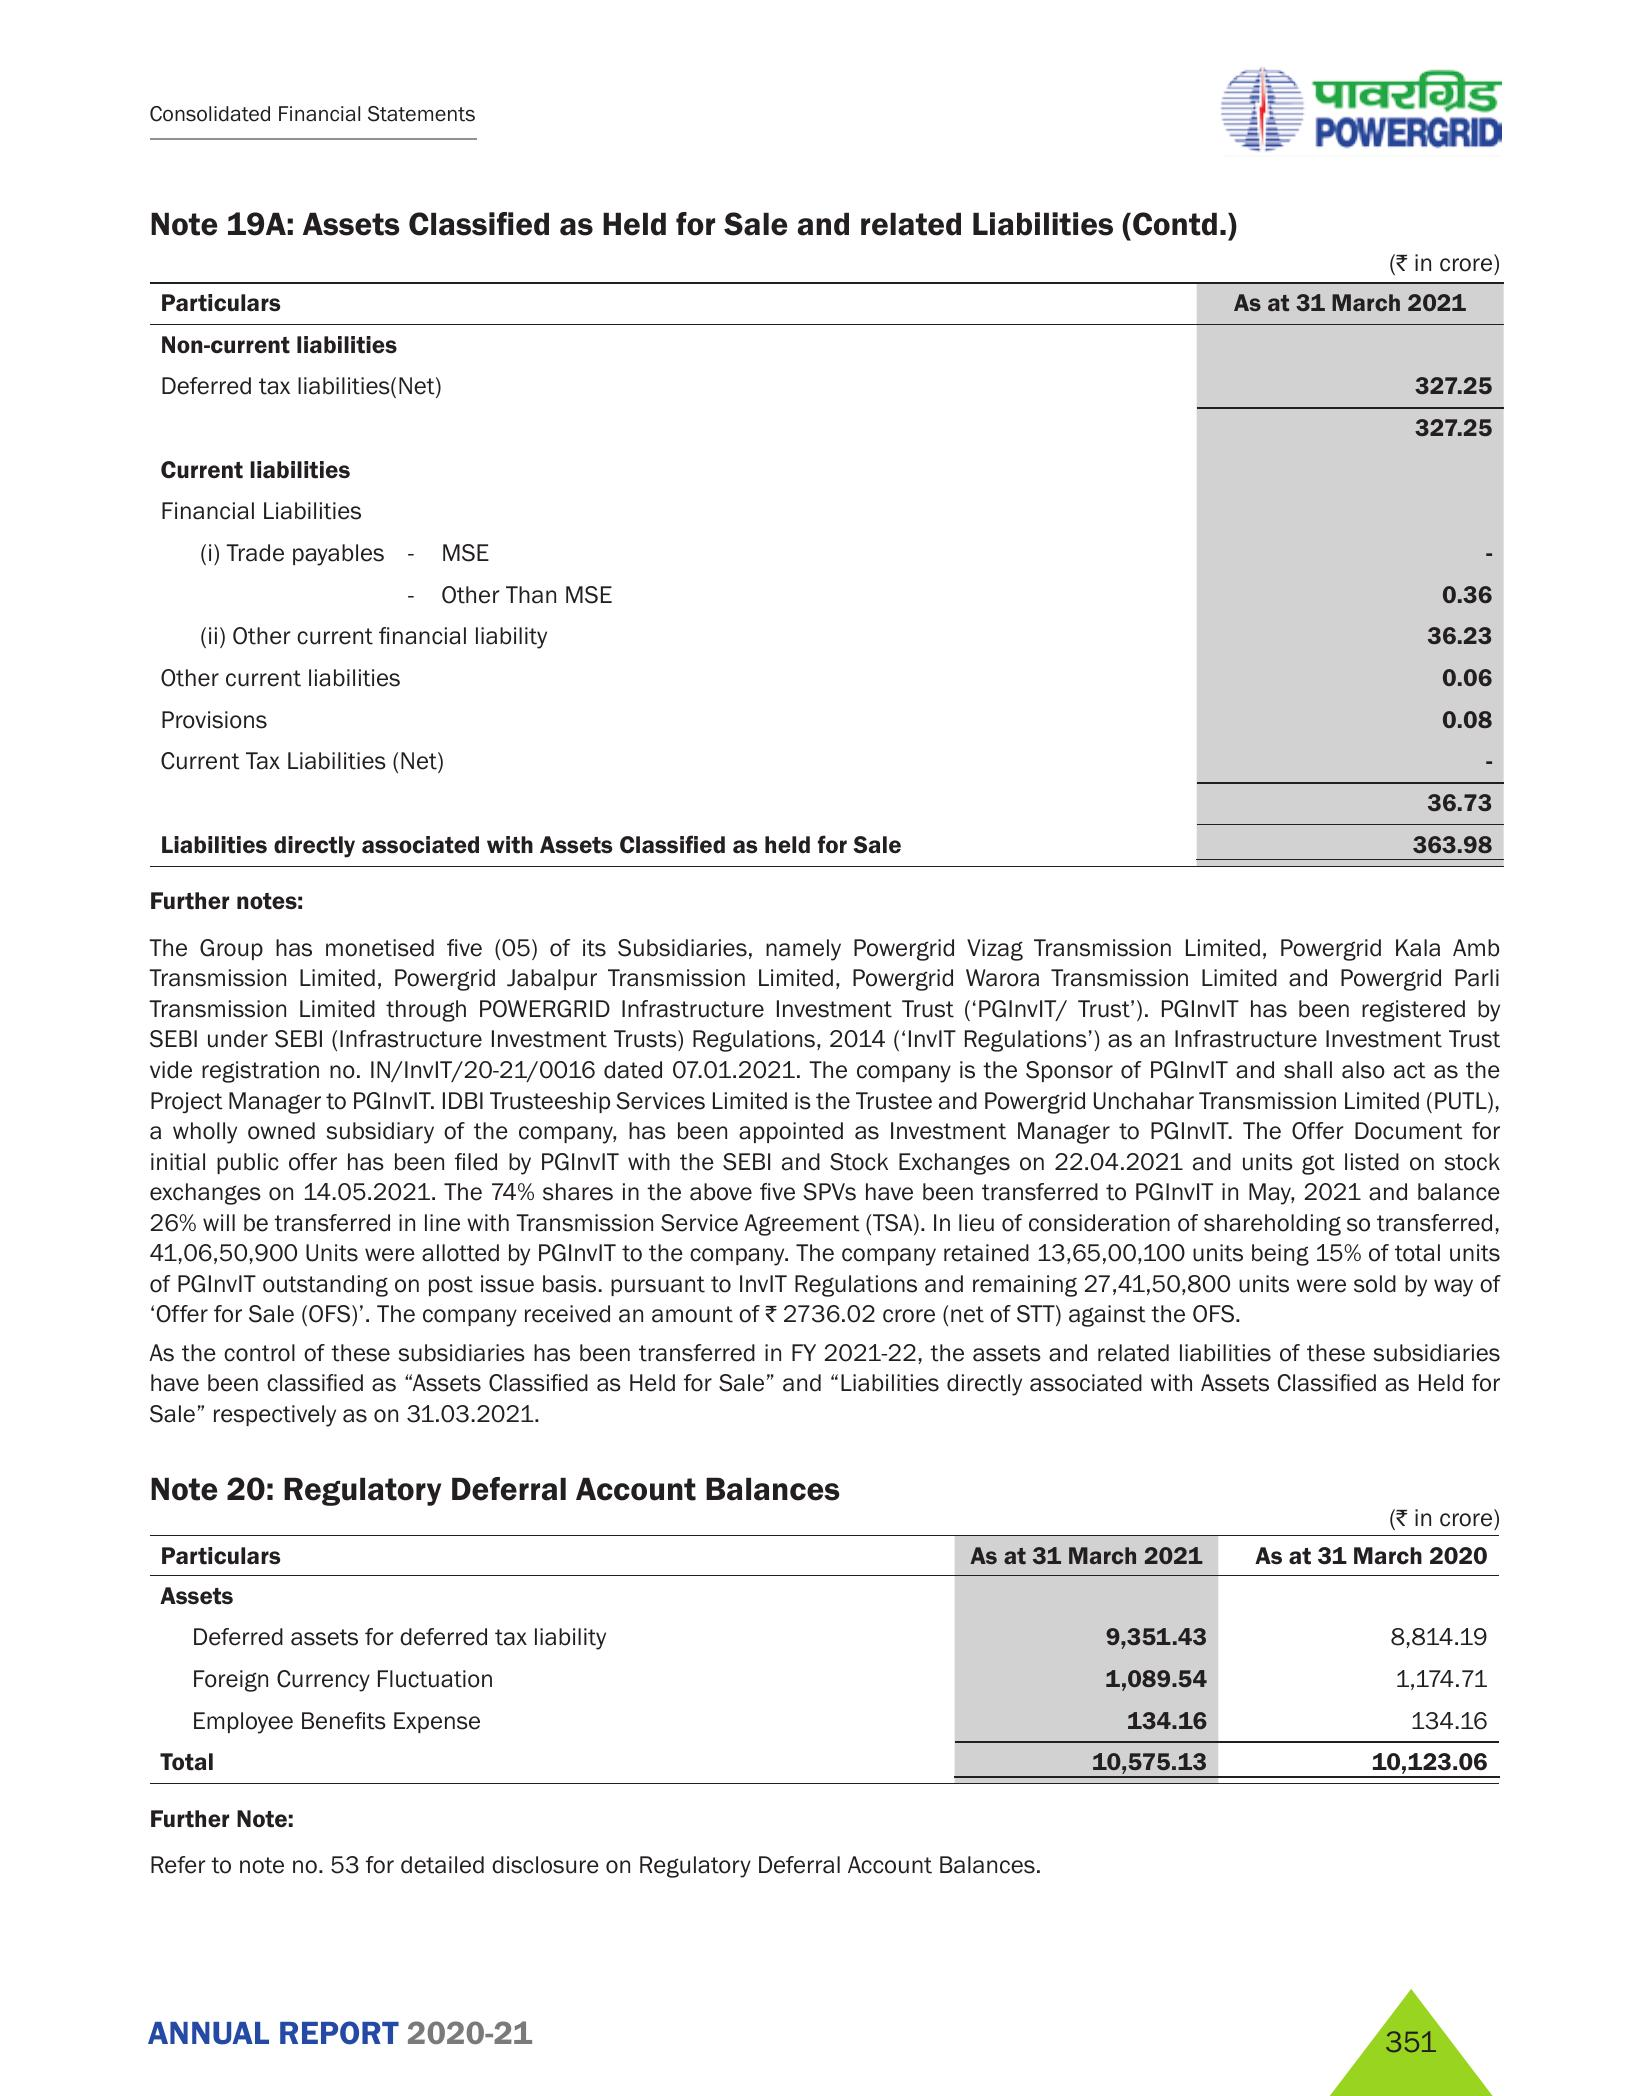Footer: (0, 1962, 1650, 2096)
Header: (0, 0, 1650, 180)
Table: (117, 274, 1504, 866), (105, 1531, 1511, 1785)
